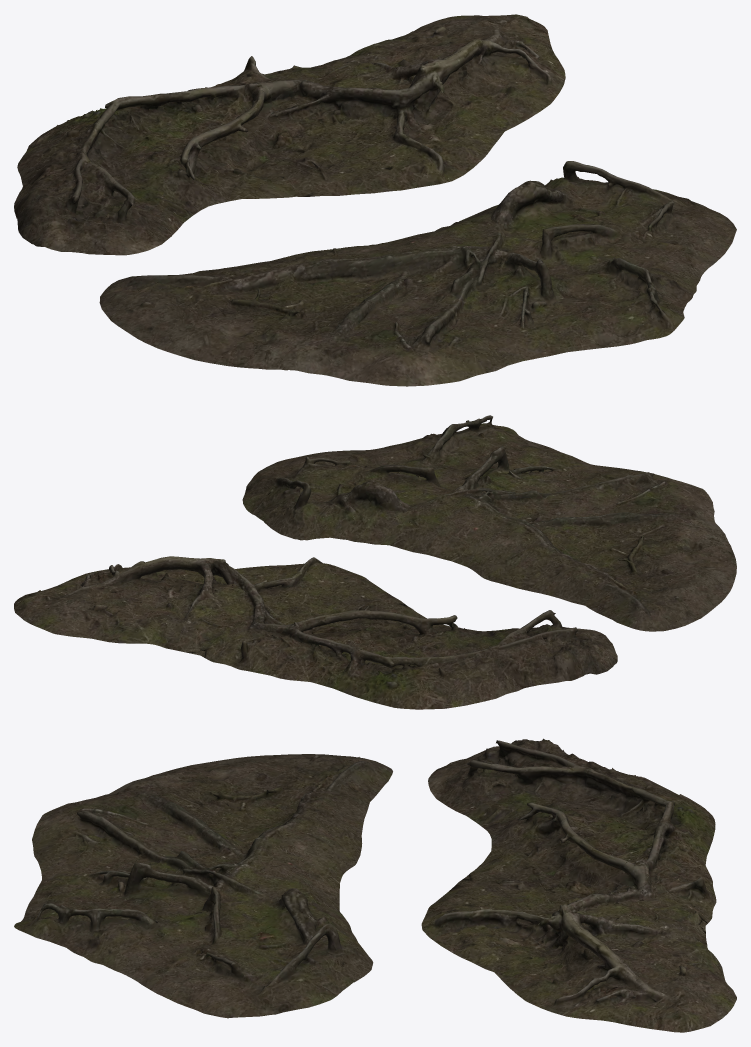
The model's file is ph-pine_roots.glb.
The picture shows the model from 3 angles, top to bottom: view 1: azimuth 30°, elevation 25°; view 2: azimuth 150°, elevation 25°; view 3: azimuth 270°, elevation 25°; orthographic projection. The views are drawn at different scales.
Parts seen in each view (by area): view 1: pine_roots_b, pine_roots_a; view 2: pine_roots_b, pine_roots_a; view 3: pine_roots_b, pine_roots_a.
Boxes of the visible parts, x1,y1,x2,y2 form: pine_roots_b: [99, 161, 736, 386]; pine_roots_a: [14, 14, 565, 255]; pine_roots_b: [242, 415, 736, 631]; pine_roots_a: [14, 556, 617, 709]; pine_roots_b: [14, 754, 392, 1018]; pine_roots_a: [421, 738, 736, 1032].
Bounding box in the file's own units: 1.77 × 0.1548 × 1.89.
2 materials, 2 textured.
